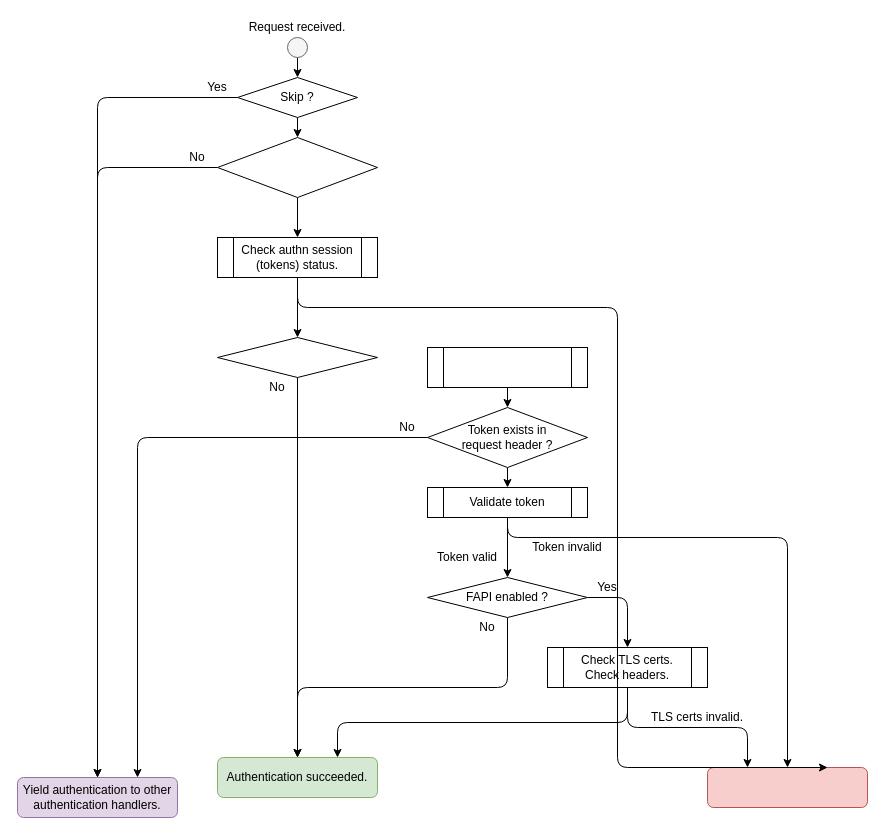
The diagram is 885 pixels wide and 835 high, and some of its shapes have lost their labels. The centre of each missing label's shape, as x and y in pixels:
"Authentication failed." goes at point 787,787.
"Find appropriate OAuthContext" goes at point 507,367.
"redeem path ?" goes at point 297,357.
"Session object exists in context ?" goes at point 297,167.
